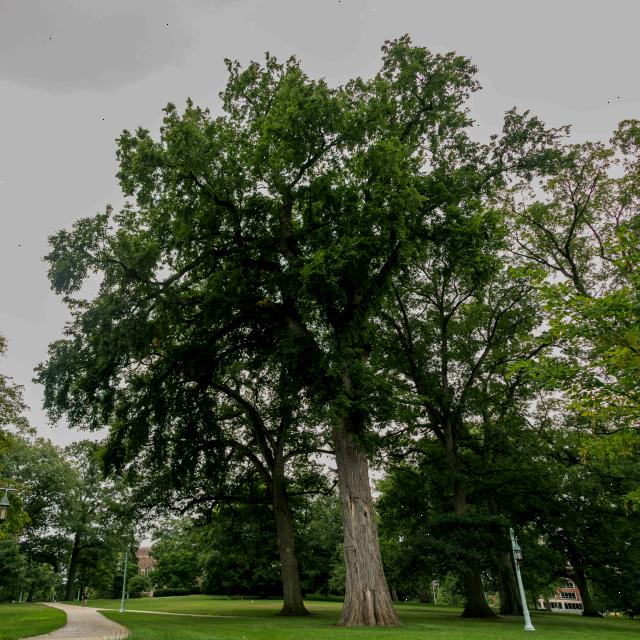Tree: (30, 33, 589, 628)
